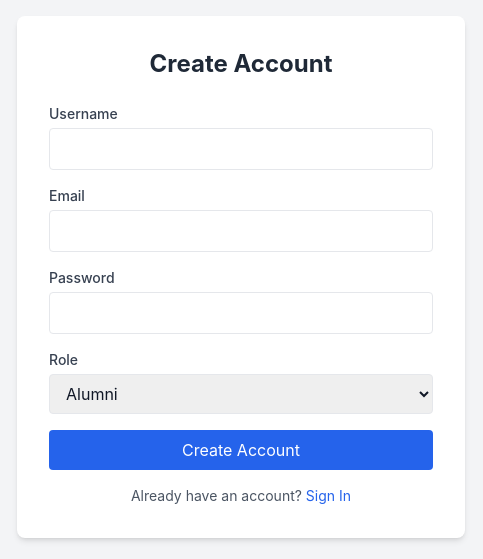
Test: RegisterPage › disables button while loading
Type "xyz" into the field below "Username".
click(241, 149); type("xyz")  # box [49,128,433,170]
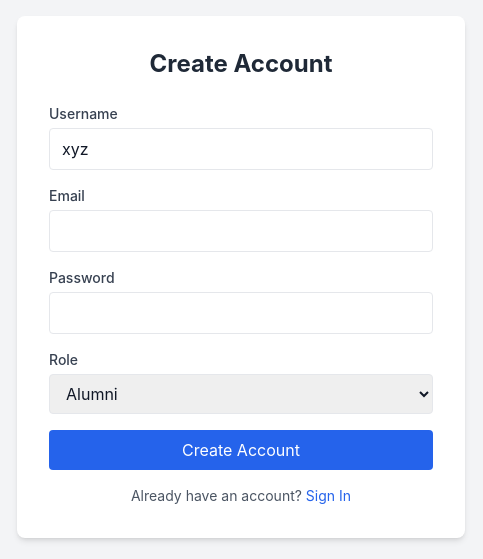
Type "x@t.com" into the field below "Email".
click(241, 231); type("x@t.com")  # box [49,210,433,252]
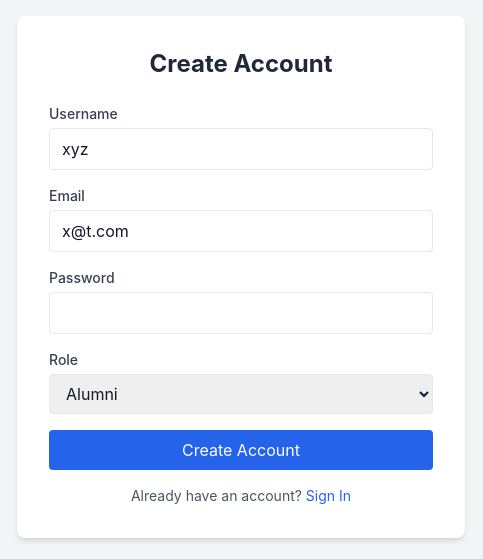
Type "Pass1234" into the password field.
click(241, 313); type("Pass1234")  # box [49,292,433,334]
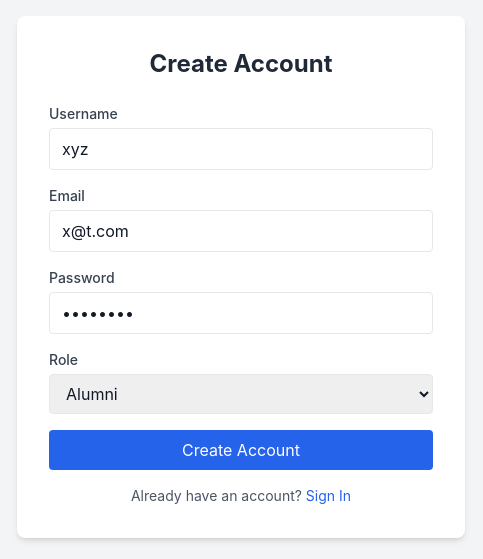
Click the button "Create Account".
click(241, 450)  # box [49,430,433,470]
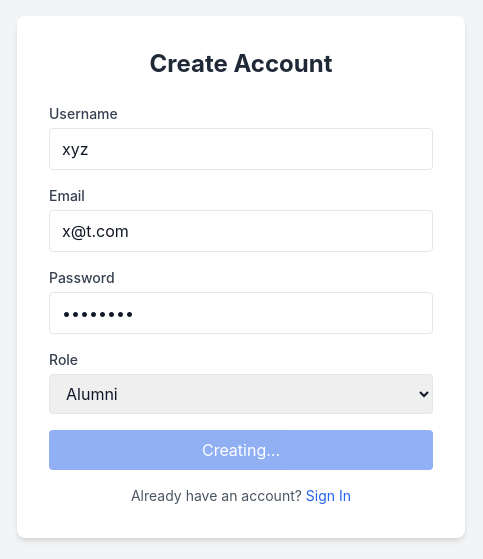
Expected: the button "Creating..." is disabled, [49,430,433,470]
